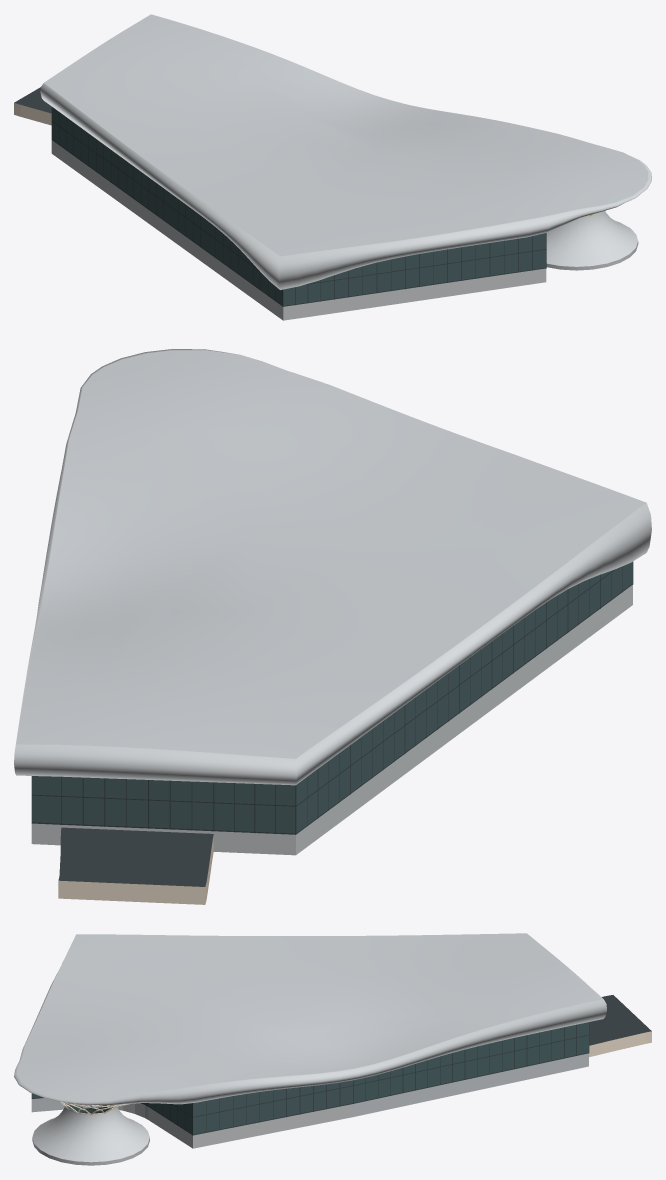
Rendered from munich-bmw-welt.glb.
3 renders of one model, top to bottom at view 1: azimuth 30°, elevation 25°; view 2: azimuth 150°, elevation 25°; view 3: azimuth 270°, elevation 25°, orthographic. The views are drawn at different scales.
Visible parts, largest first — view 1: BMW Welt; view 2: BMW Welt; view 3: BMW Welt.
Part boxes in pixels (box(x1,y1,x2,y2)): BMW Welt: box(14, 14, 651, 320); BMW Welt: box(14, 349, 651, 904); BMW Welt: box(14, 933, 651, 1165).
Bounding box in the file's own units: 129 × 24.18 × 202.
